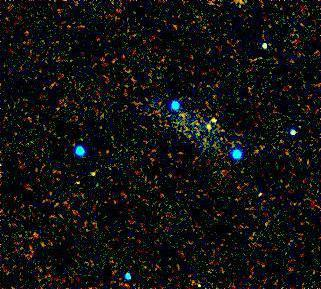star: (198, 111, 228, 141)
